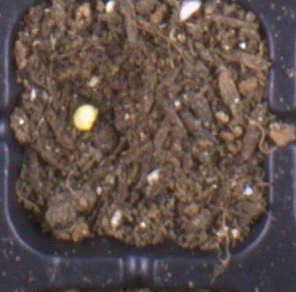chilli seed: (72, 103, 99, 132)
